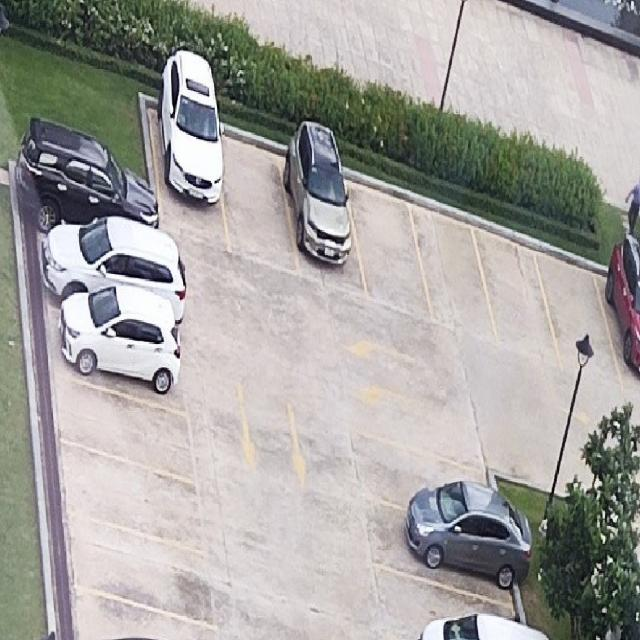car: (18, 118, 159, 232), (41, 217, 186, 322), (284, 120, 368, 293), (406, 481, 531, 589), (59, 285, 180, 393), (159, 51, 224, 201), (415, 592, 417, 598)
freeslot: (64, 505, 224, 638), (57, 429, 213, 562), (54, 369, 204, 498), (338, 168, 441, 332), (465, 222, 570, 381), (526, 242, 629, 399), (404, 194, 504, 352), (214, 122, 305, 281)
